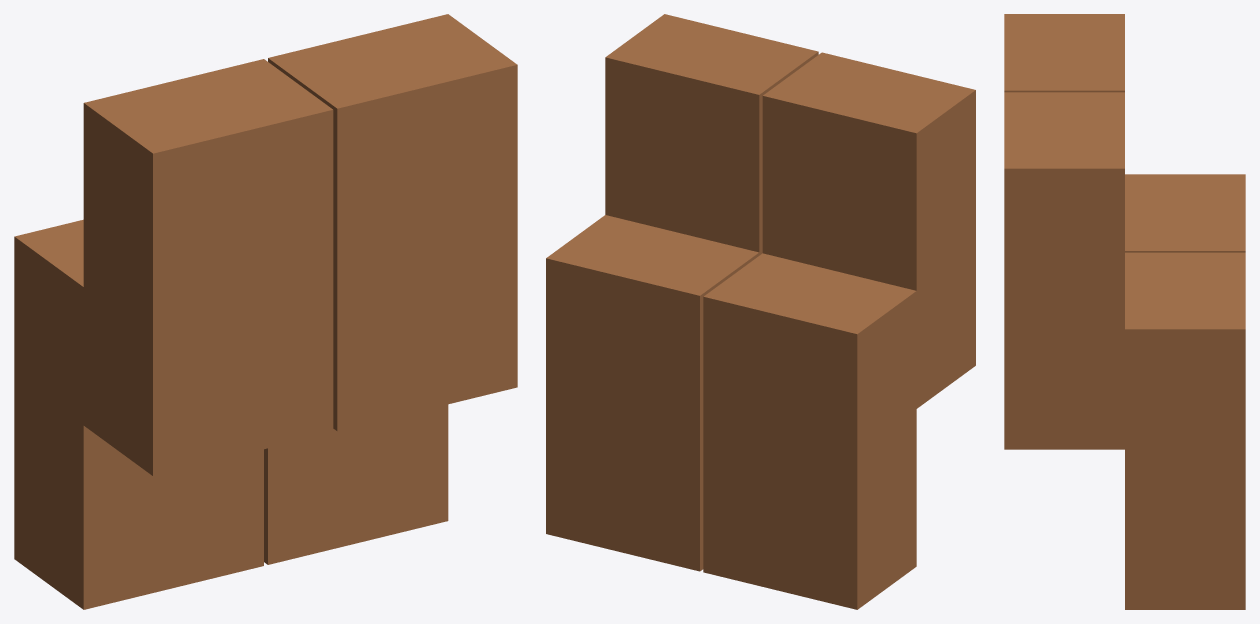
Rendered from parcel_scales.glb.
The picture shows the model from 3 angles, left to right: view 1: azimuth 30°, elevation 25°; view 2: azimuth 150°, elevation 25°; view 3: azimuth 270°, elevation 25°; orthographic projection. The views are drawn at different scales.
Bounding box in the file's own units: 0.546 × 0.726 × 0.36.
1 material, 1 textured.
